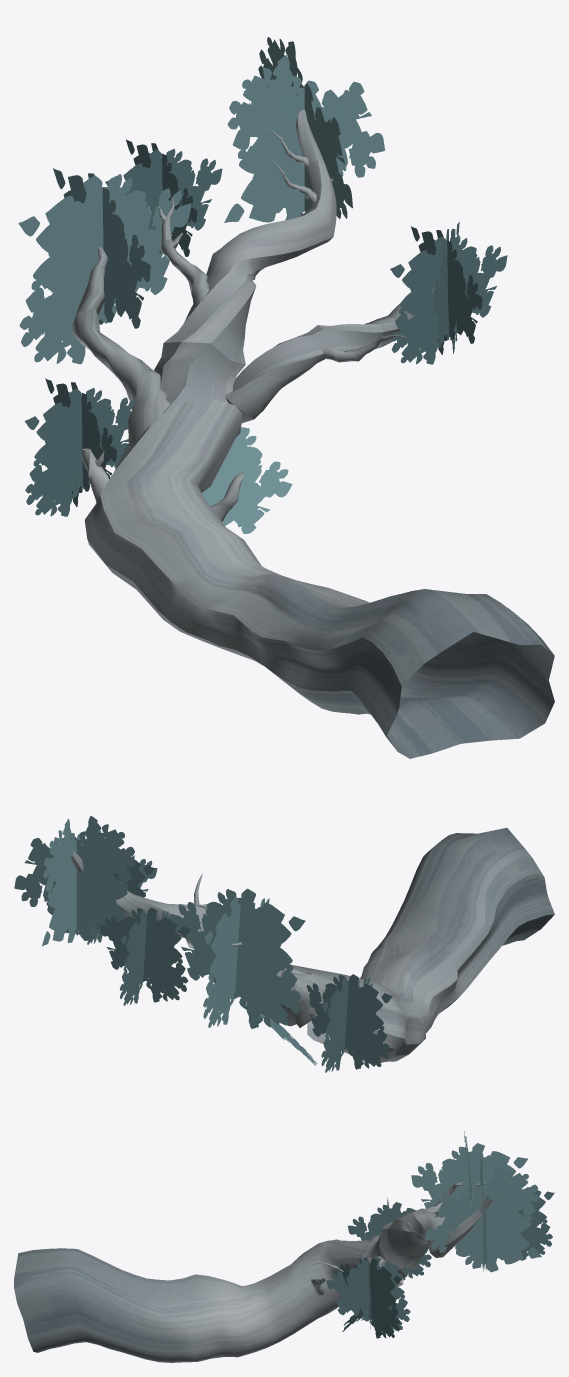
Rendered from tree.fbx.
The picture shows the model from 3 angles, top to bottom: view 1: azimuth 30°, elevation 25°; view 2: azimuth 150°, elevation 25°; view 3: azimuth 270°, elevation 25°; orthographic projection. The views are drawn at different scales.
Visible parts, largest first — view 1: nurbsToPoly3, nurbsToPoly4, pPlane3, pPlane2, nurbsToPoly12, pPlane6, pPlane9, nurbsToPoly13, pPlane4, pPlane11, pPlane1, pPlane7 (+5 smaller); view 2: nurbsToPoly3, pPlane3, pPlane2, pPlane7, pPlane6, pPlane1, pPlane4, pPlane5, pPlane8, nurbsToPoly4, nurbsToPoly13, pPlane9 (+1 smaller); view 3: nurbsToPoly3, pPlane1, nurbsToPoly4, pPlane4, pPlane10, pPlane12, pPlane5, pPlane8, pPlane2.
Boxes of the visible parts, left/top/right/bottom form: nurbsToPoly3: left=84, top=399, right=554, bottom=758; nurbsToPoly4: left=154, top=109, right=336, bottom=436; pPlane3: left=18, top=174, right=191, bottom=364; pPlane2: left=224, top=55, right=384, bottom=222; nurbsToPoly12: left=225, top=288, right=434, bottom=423; pPlane6: left=25, top=387, right=135, bottom=516; pPlane9: left=390, top=235, right=507, bottom=364; nurbsToPoly13: left=70, top=247, right=170, bottom=446; pPlane4: left=53, top=168, right=150, bottom=328; pPlane11: left=201, top=427, right=292, bottom=533; pPlane1: left=258, top=37, right=352, bottom=218; pPlane7: left=105, top=148, right=222, bottom=230; nurbsToPoly3: left=292, top=827, right=554, bottom=1063; pPlane3: left=170, top=888, right=305, bottom=1028; pPlane2: left=14, top=816, right=136, bottom=940; pPlane7: left=99, top=907, right=190, bottom=1002; pPlane6: left=306, top=974, right=392, bottom=1069; pPlane1: left=42, top=818, right=101, bottom=946; pPlane4: left=203, top=897, right=269, bottom=1027; pPlane5: left=321, top=974, right=372, bottom=1072; pPlane8: left=119, top=907, right=170, bottom=1005; nurbsToPoly4: left=71, top=851, right=309, bottom=1026; nurbsToPoly13: left=232, top=942, right=325, bottom=1027; pPlane9: left=113, top=848, right=154, bottom=936; nurbsToPoly3: left=14, top=1239, right=369, bottom=1362; pPlane1: left=425, top=1166, right=541, bottom=1272; nurbsToPoly4: left=358, top=1196, right=492, bottom=1279; pPlane4: left=411, top=1143, right=527, bottom=1217; pPlane10: left=326, top=1256, right=412, bottom=1334; pPlane12: left=337, top=1257, right=401, bottom=1338; pPlane5: left=348, top=1202, right=431, bottom=1280; pPlane8: left=517, top=1187, right=554, bottom=1260; pPlane2: left=480, top=1156, right=486, bottom=1271.
Bounding box in the file's own units: 73.65 × 61.43 × 121.
